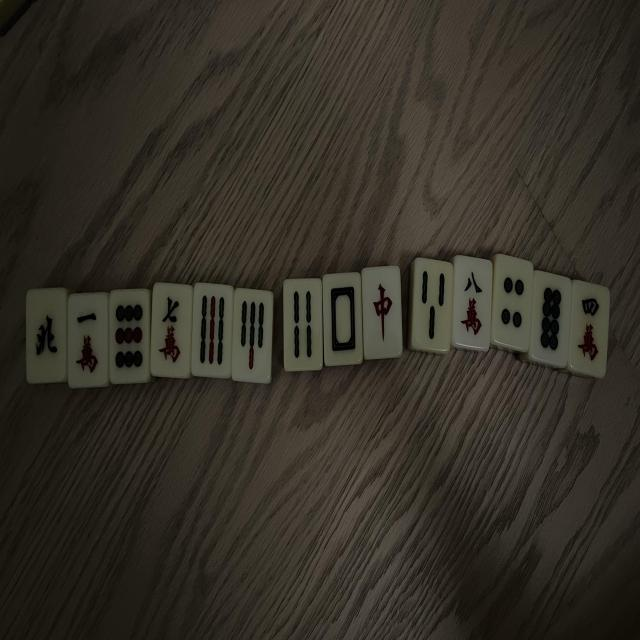bai: (324, 275, 364, 366)
m1: (68, 294, 109, 387)
m4: (570, 282, 611, 378)
m7: (152, 283, 194, 378)
m8: (453, 255, 494, 348)
north: (27, 292, 66, 382)
s3: (410, 258, 452, 351)
s4: (285, 279, 324, 371)
s7: (232, 288, 273, 382)
s9: (192, 284, 234, 378)
t4: (492, 253, 535, 349)
t8: (530, 271, 572, 367)
t9: (110, 288, 152, 382)
zhong: (363, 267, 404, 361)
